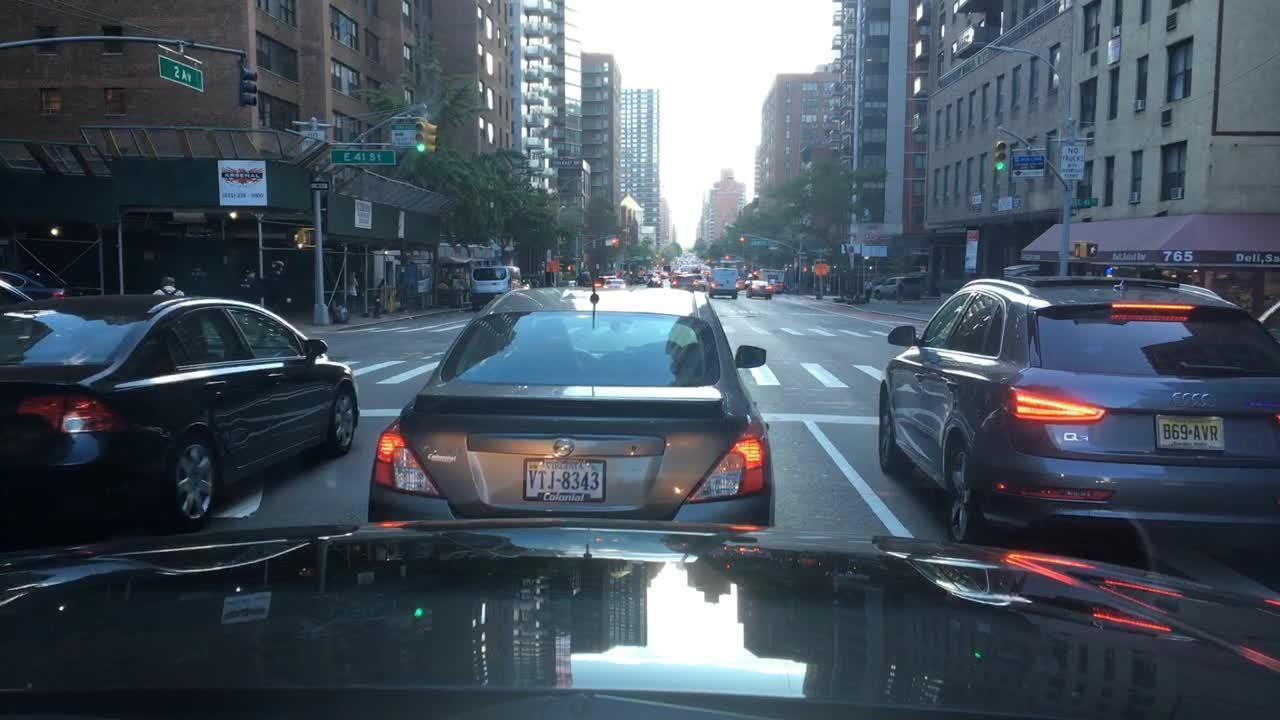Audi: (1156, 376, 1236, 418)
Nissan: (539, 432, 588, 469)
